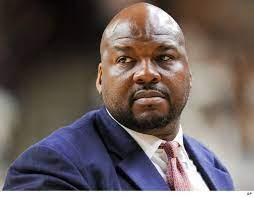Persons: (89, 3, 203, 139)
